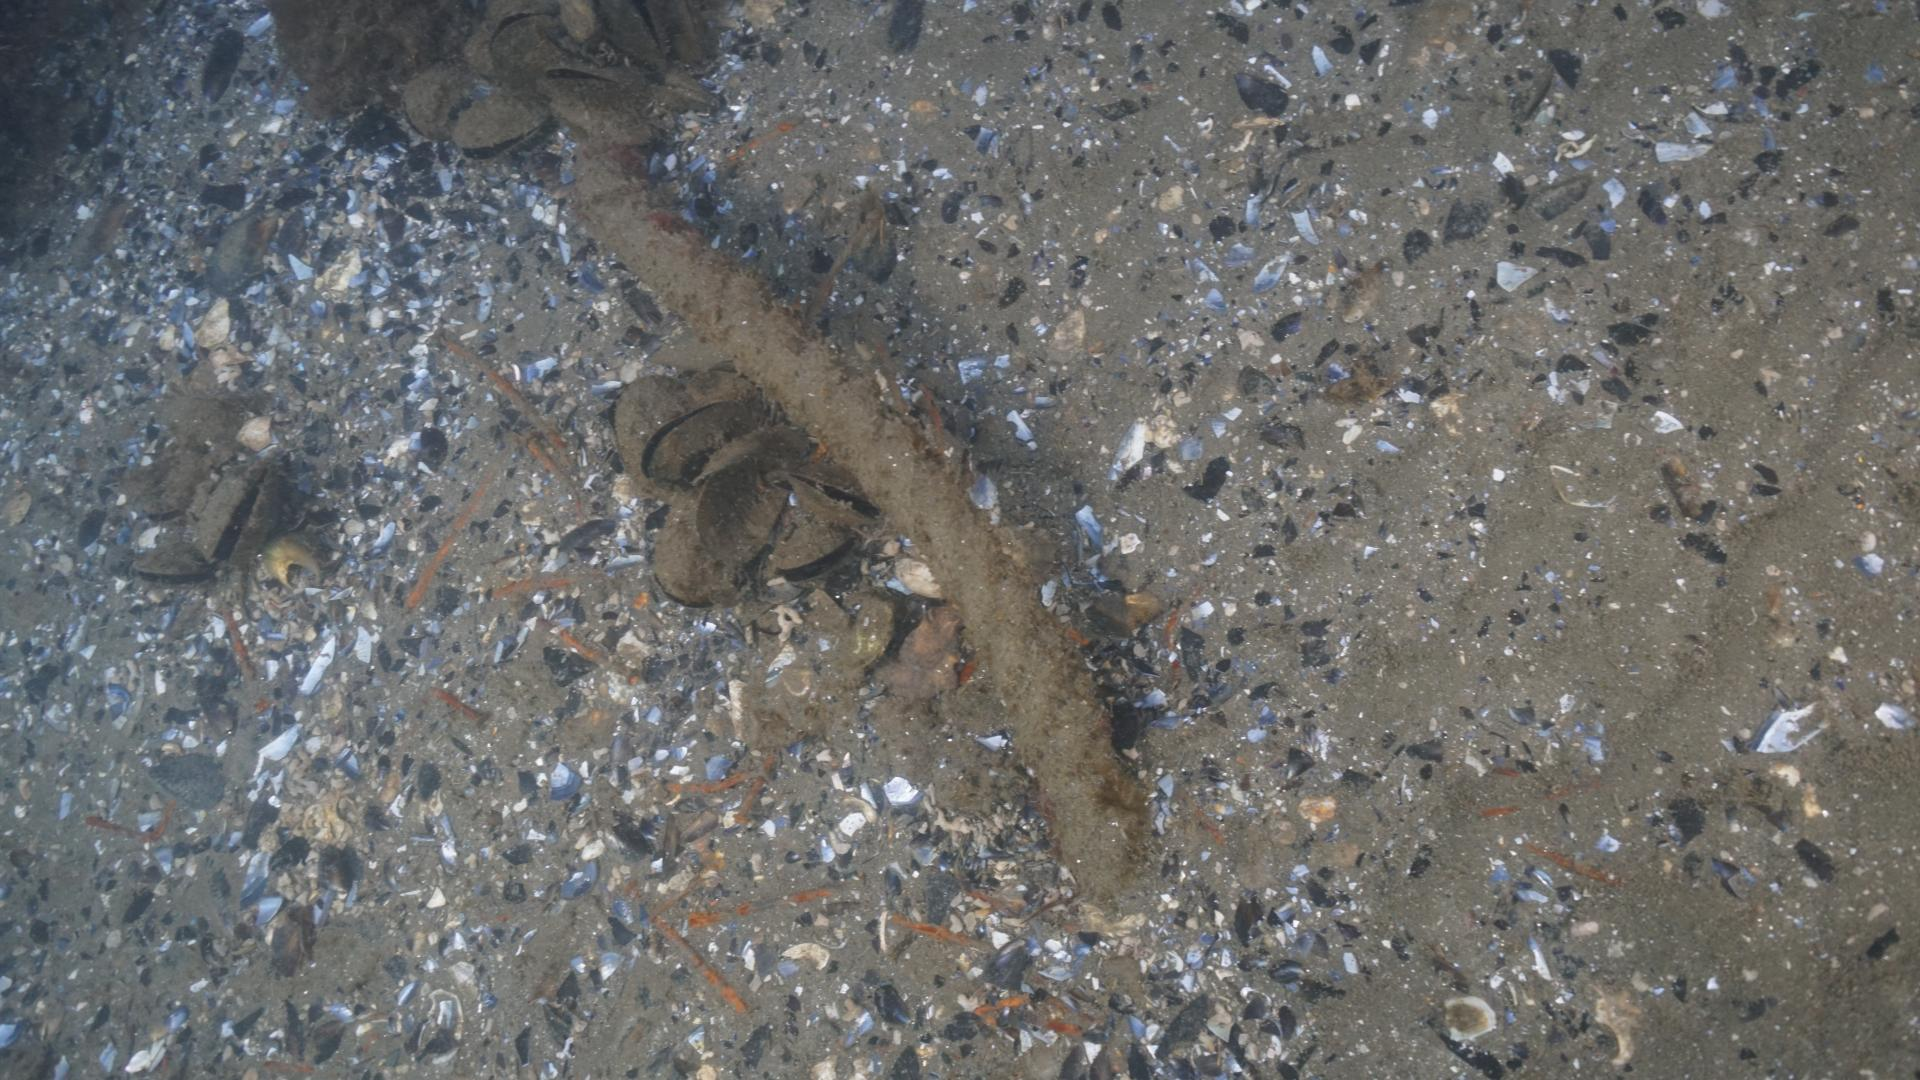rope: (545, 149, 1171, 899)
